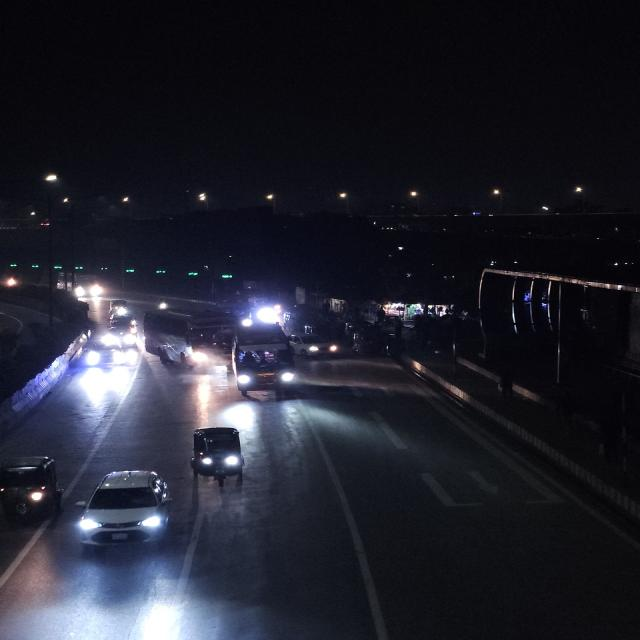bus: (142, 307, 234, 371), (228, 326, 297, 400), (60, 272, 104, 299)
car: (70, 466, 178, 562), (290, 332, 340, 362), (83, 343, 126, 367), (103, 325, 142, 349), (106, 312, 138, 331)
cng: (188, 420, 259, 503), (0, 454, 65, 532)
